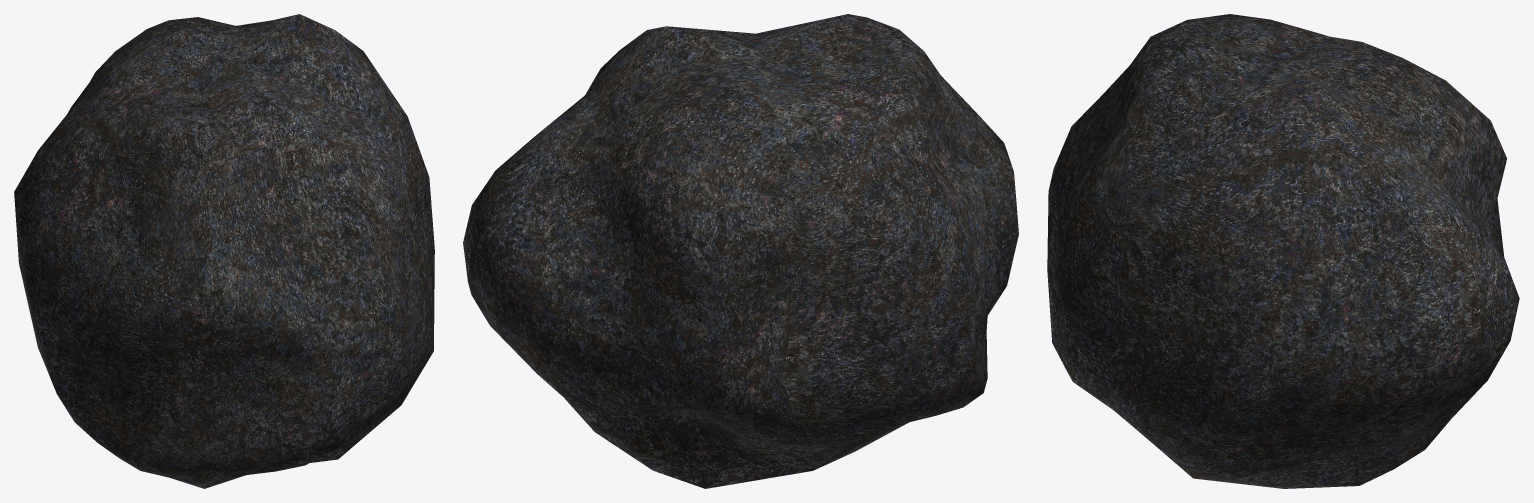
Rendered from asteroid_metal_medium_s01_l0.fbx.
The picture shows the model from 3 angles, left to right: view 1: azimuth 30°, elevation 25°; view 2: azimuth 150°, elevation 25°; view 3: azimuth 270°, elevation 25°; orthographic projection. The views are drawn at different scales.
Visible parts, largest first — view 1: mesh_node; view 2: mesh_node; view 3: mesh_node.
Boxes of the visible parts, bbox=[...] form: mesh_node: bbox=[14, 14, 434, 488]; mesh_node: bbox=[463, 14, 1018, 488]; mesh_node: bbox=[1047, 14, 1519, 488].
Size of the model in its own units: 69.8 by 67.51 by 66.55.
